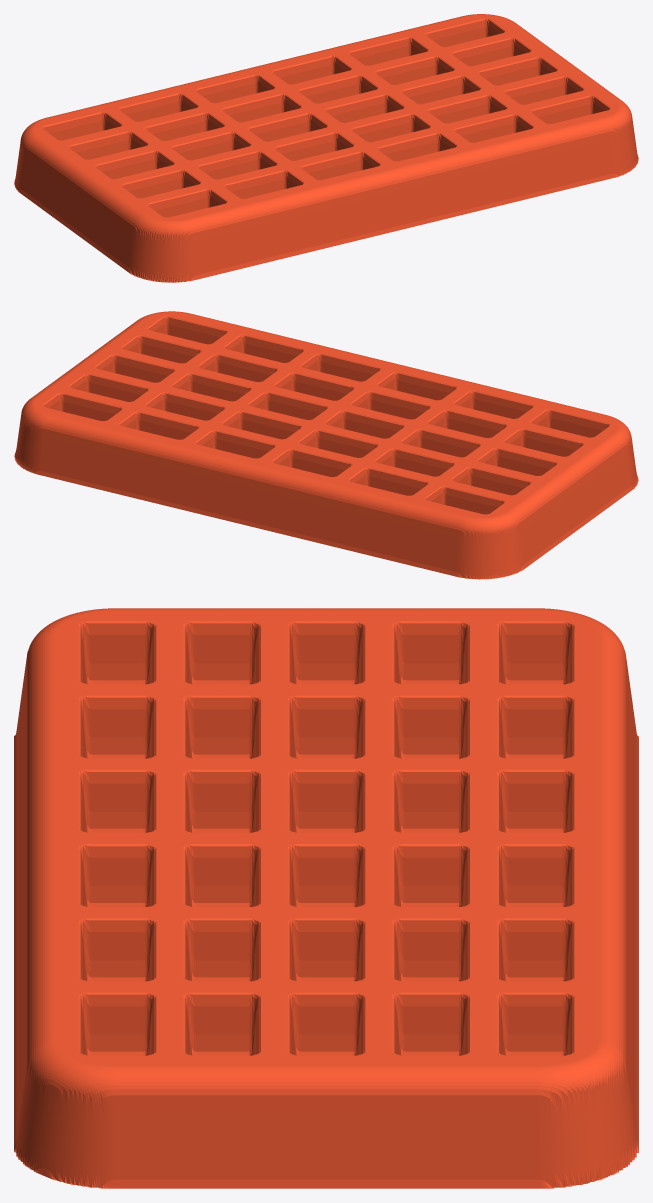
The model's file is mold.glb.
3 views of the same model, one above another, from view 1: azimuth 30°, elevation 25°; view 2: azimuth 150°, elevation 25°; view 3: azimuth 270°, elevation 25° (orthographic). The views are drawn at different scales.
Parts seen in each view (by area): view 1: geometry_0; view 2: geometry_0; view 3: geometry_0.
Part boxes in pixels (bbox=[...]): geometry_0: bbox=[14, 14, 638, 282]; geometry_0: bbox=[14, 311, 638, 579]; geometry_0: bbox=[14, 608, 638, 1188].
Size of the model in its own units: 0.104 by 0.0105 by 0.0562.
